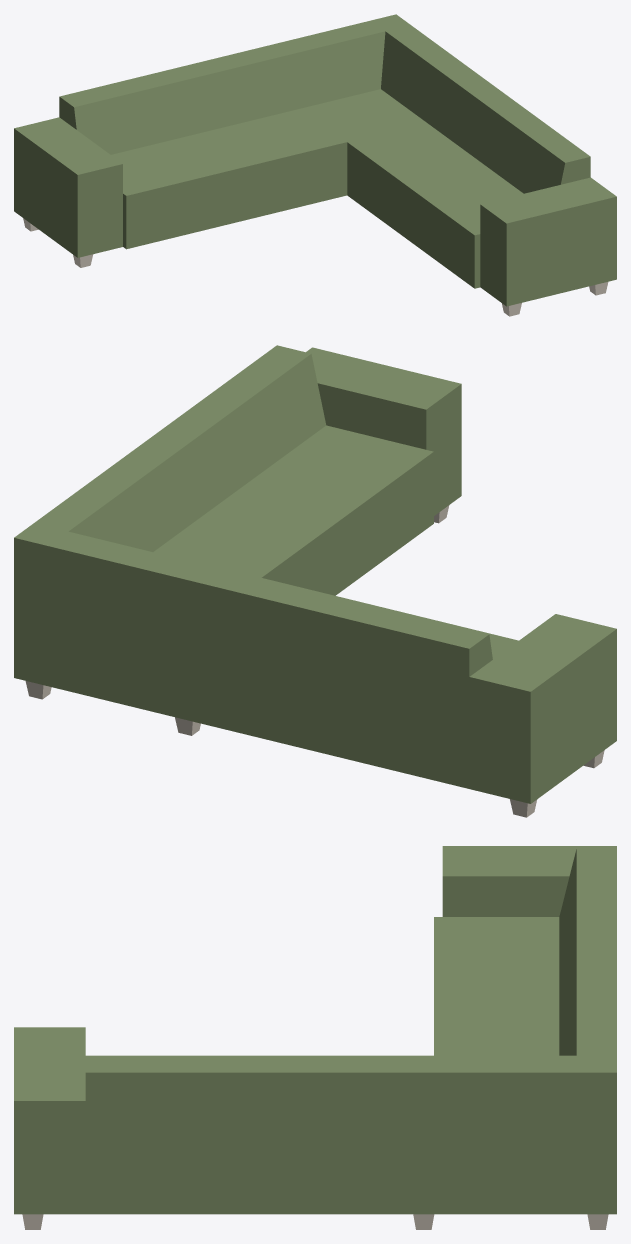
File: kitLoungeDesignSofaCorner.glb
3 views of the same model, one above another, from view 1: azimuth 30°, elevation 25°; view 2: azimuth 150°, elevation 25°; view 3: azimuth 270°, elevation 25° (orthographic). The views are drawn at different scales.
Visible parts, largest first — view 1: kitLoungeDesignSofaCorner_fabricAccent, kitLoungeDesignSofaCorner_metal; view 2: kitLoungeDesignSofaCorner_fabricAccent, kitLoungeDesignSofaCorner_metal; view 3: kitLoungeDesignSofaCorner_fabricAccent, kitLoungeDesignSofaCorner_metal.
Boxes of the visible parts, box(x1,y1,x2,y2) form: kitLoungeDesignSofaCorner_fabricAccent: box(14, 14, 616, 306); kitLoungeDesignSofaCorner_metal: box(23, 218, 608, 316); kitLoungeDesignSofaCorner_fabricAccent: box(14, 345, 616, 803); kitLoungeDesignSofaCorner_metal: box(25, 505, 604, 817); kitLoungeDesignSofaCorner_fabricAccent: box(14, 846, 616, 1214); kitLoungeDesignSofaCorner_metal: box(22, 1214, 608, 1229).
Size of the model in its own units: 2.7 by 0.8 by 2.7.
